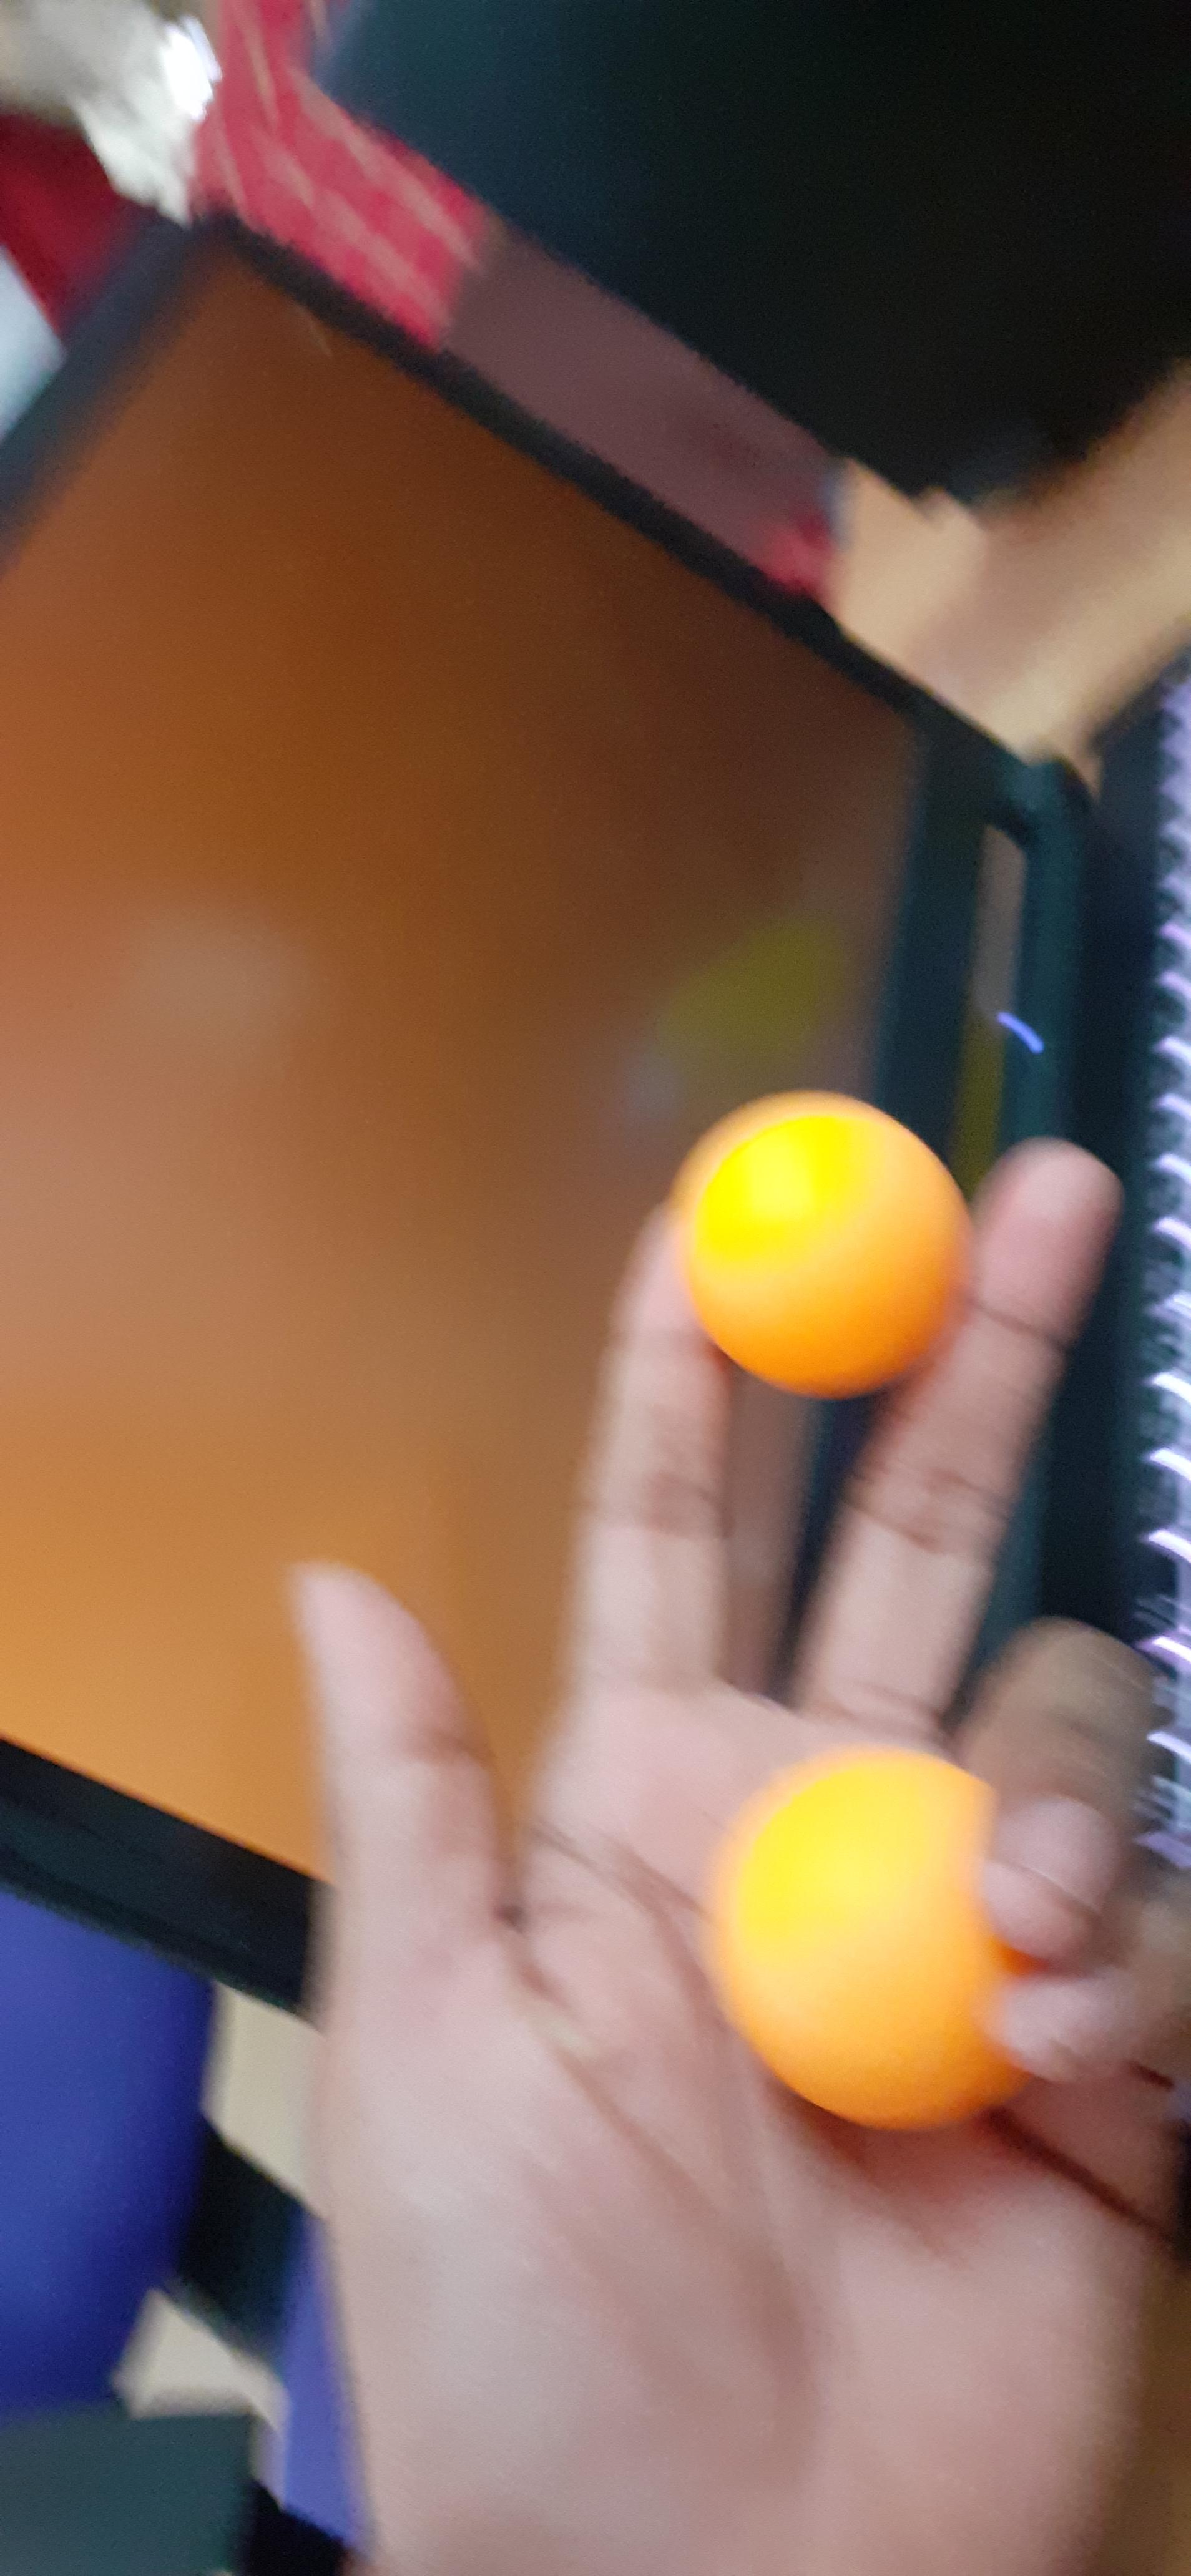orange: (697, 1743, 1046, 2134), (678, 1101, 959, 1383)
